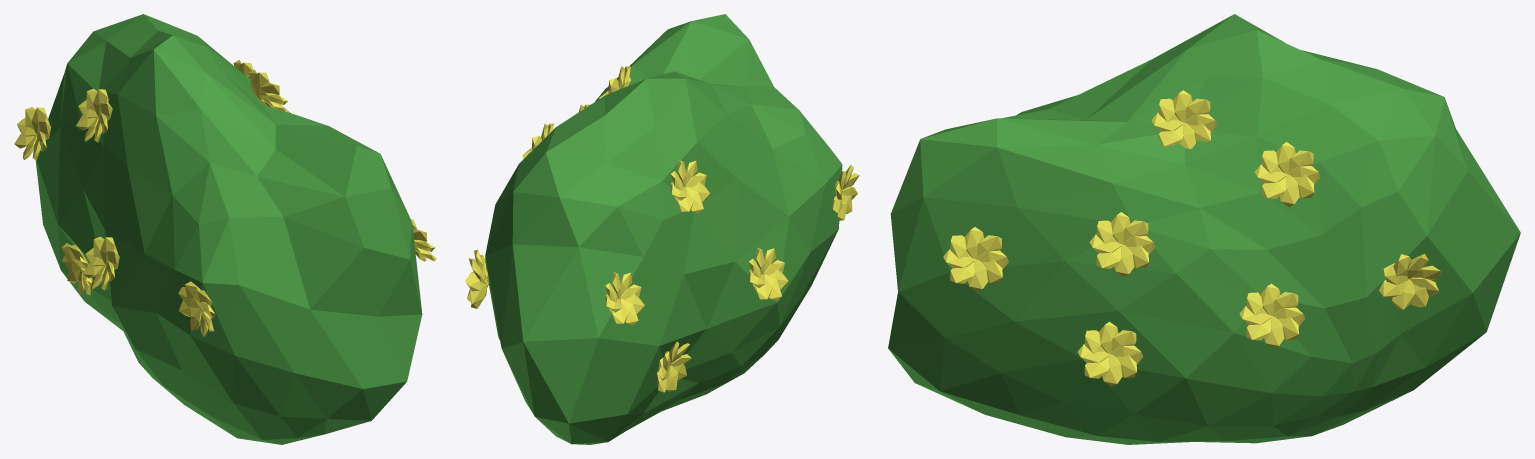
Rendered from bush_2.fbx.
The picture shows the model from 3 angles, left to right: view 1: azimuth 30°, elevation 25°; view 2: azimuth 150°, elevation 25°; view 3: azimuth 270°, elevation 25°; orthographic projection. The views are drawn at different scales.
Visible parts, largest first — view 1: Icosphere.001; view 2: Icosphere.001; view 3: Icosphere.001.
Boxes of the visible parts, bbox=[...] form: Icosphere.001: bbox=[14, 14, 436, 444]; Icosphere.001: bbox=[465, 14, 859, 444]; Icosphere.001: bbox=[888, 14, 1520, 444].
Bounding box in the file's own units: 271 × 342 × 503.
